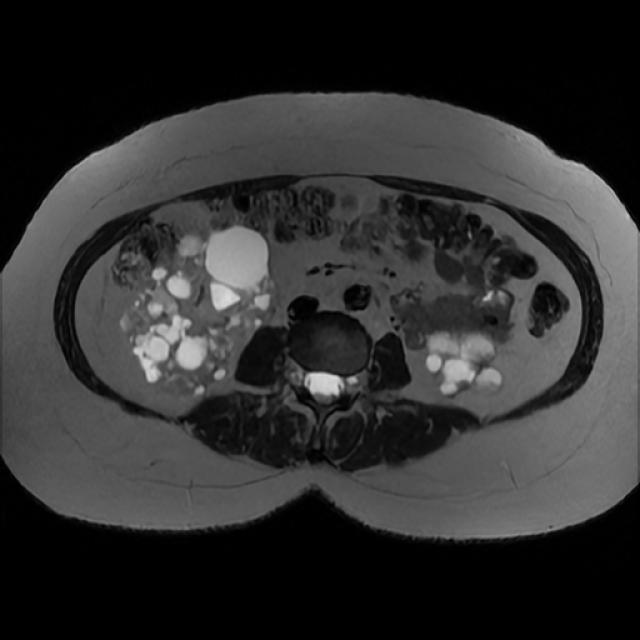sag: (117, 221, 282, 404)
sol: (424, 329, 506, 402)
